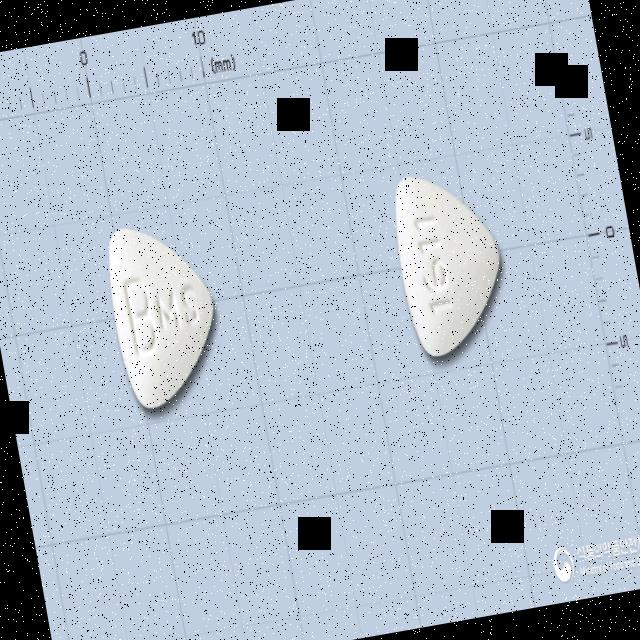Baraclude: (95, 206, 234, 418)
